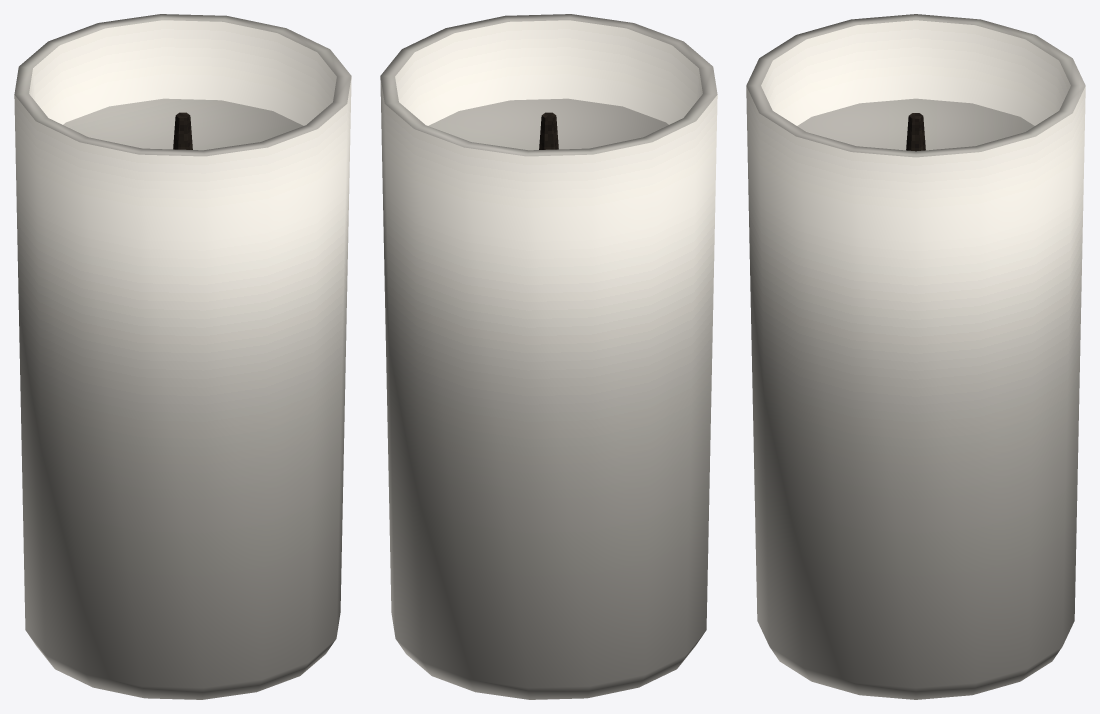
Rendered from veladora_vaso.obj.
3 views of the same model, side by side, from view 1: azimuth 30°, elevation 25°; view 2: azimuth 150°, elevation 25°; view 3: azimuth 270°, elevation 25° (orthographic).
Parts seen in each view (by area): view 1: Vaso, Mecha; view 2: Vaso, Mecha; view 3: Vaso, Mecha.
Part boxes in pixels (x1,y1,x2,y2): Vaso: (14,14,351,699); Mecha: (173,112,192,149); Vaso: (380,14,717,699); Mecha: (539,112,558,149); Vaso: (746,14,1085,699); Mecha: (906,113,925,151).
Bounding box in the file's own units: 0.184 × 0.33 × 0.184.
Materials: 2 (2 with a texture image).
